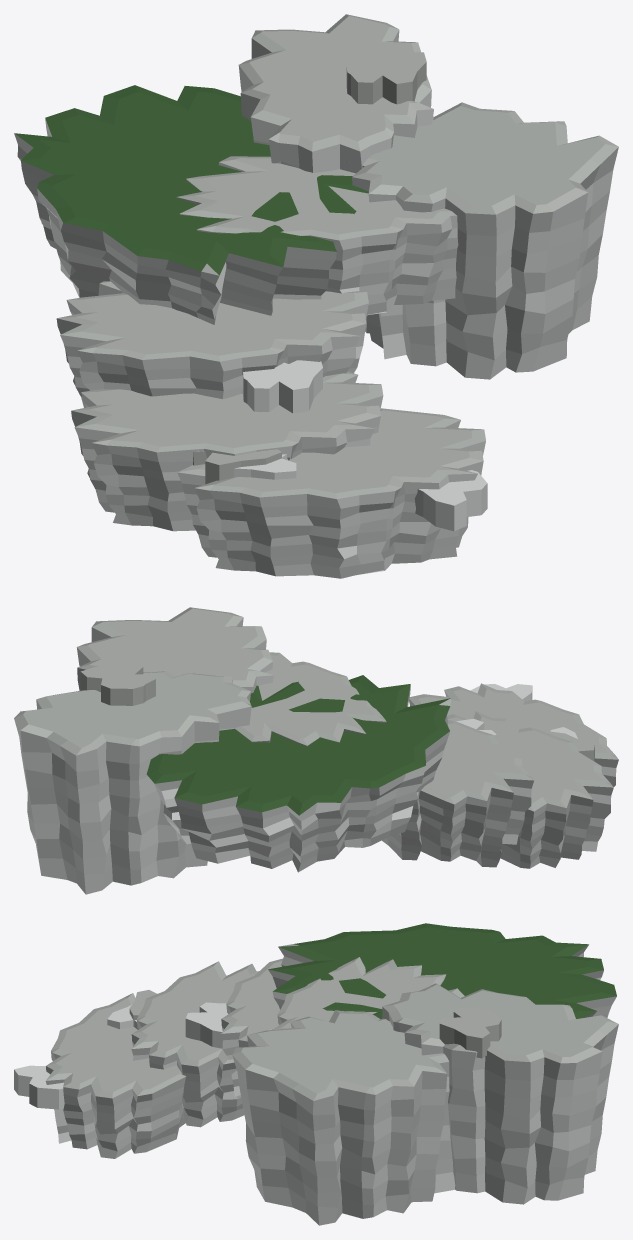
The model's file is cliff.glb.
3 renders of one model, top to bottom at view 1: azimuth 30°, elevation 25°; view 2: azimuth 150°, elevation 25°; view 3: azimuth 270°, elevation 25°, orthographic. The views are drawn at different scales.
Visible parts, largest first — view 1: cliff; view 2: cliff; view 3: cliff.
Part boxes in pixels (left/top/right/bottom): cliff: left=14, top=14, right=618, bottom=578; cliff: left=14, top=607, right=618, bottom=894; cliff: left=14, top=923, right=618, bottom=1225.
Size of the model in its own units: 5.09 by 2.08 by 5.78.
